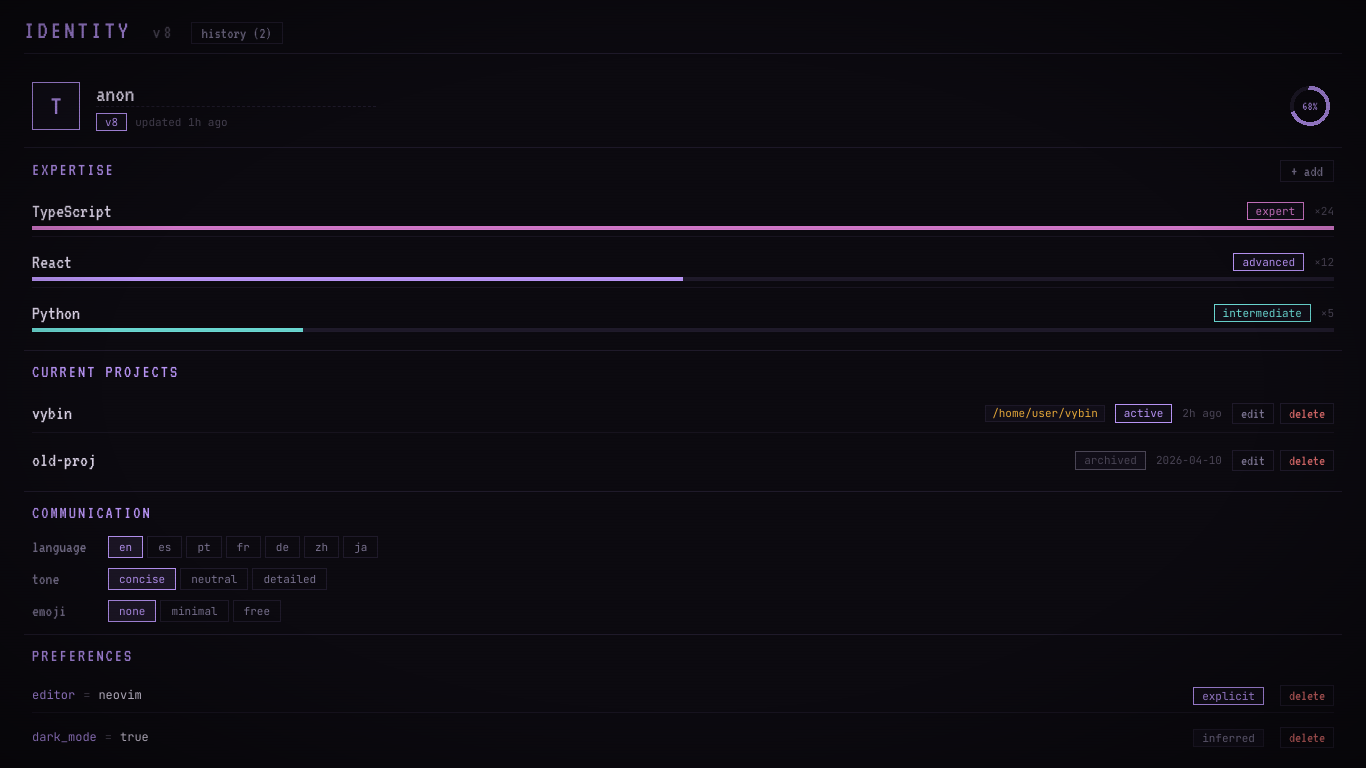
UserModelView — expertise interactions › adds a new expertise area
Click the button "+ add": {"x": 1307, "y": 171} x1=1280 y1=160 x2=1334 y2=182
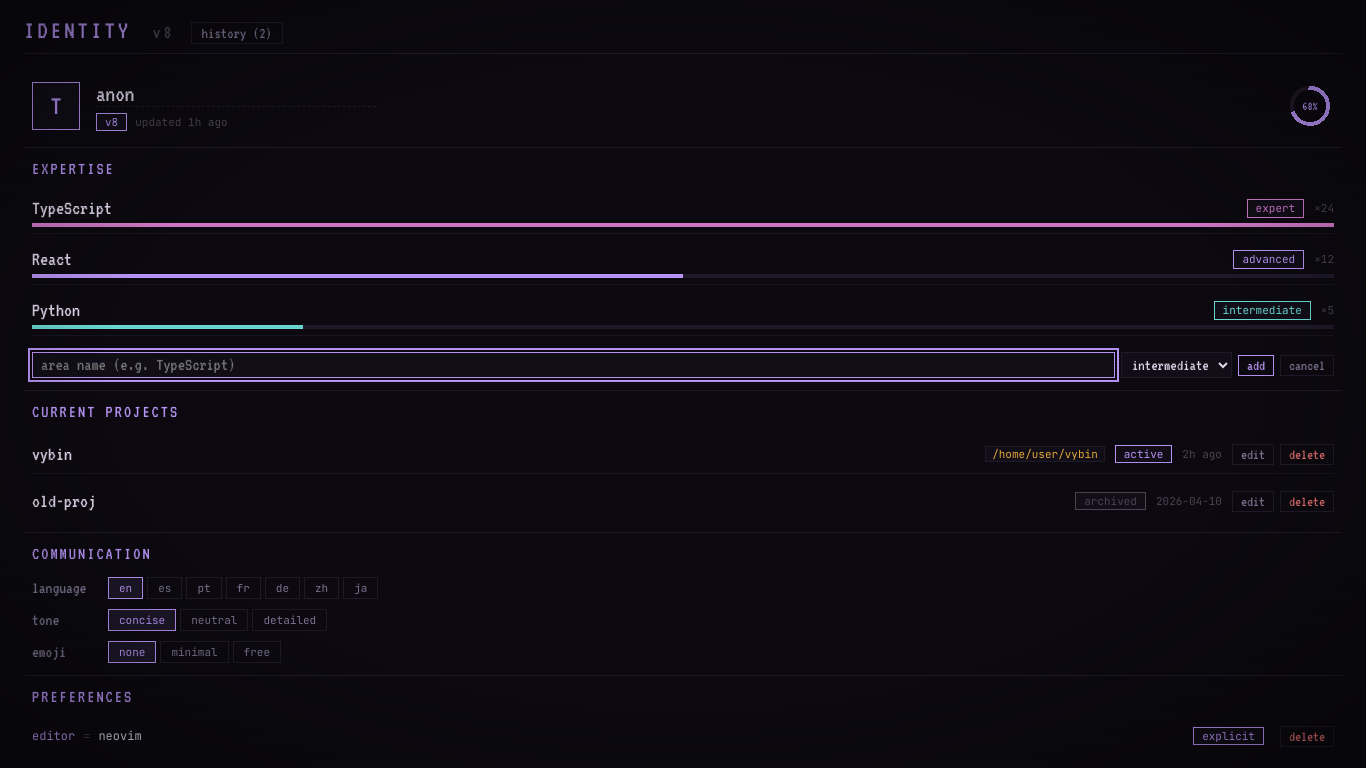
In the field named "new expertise area": {"x": 574, "y": 366} x1=32 y1=352 x2=1115 y2=378, type "Rust"
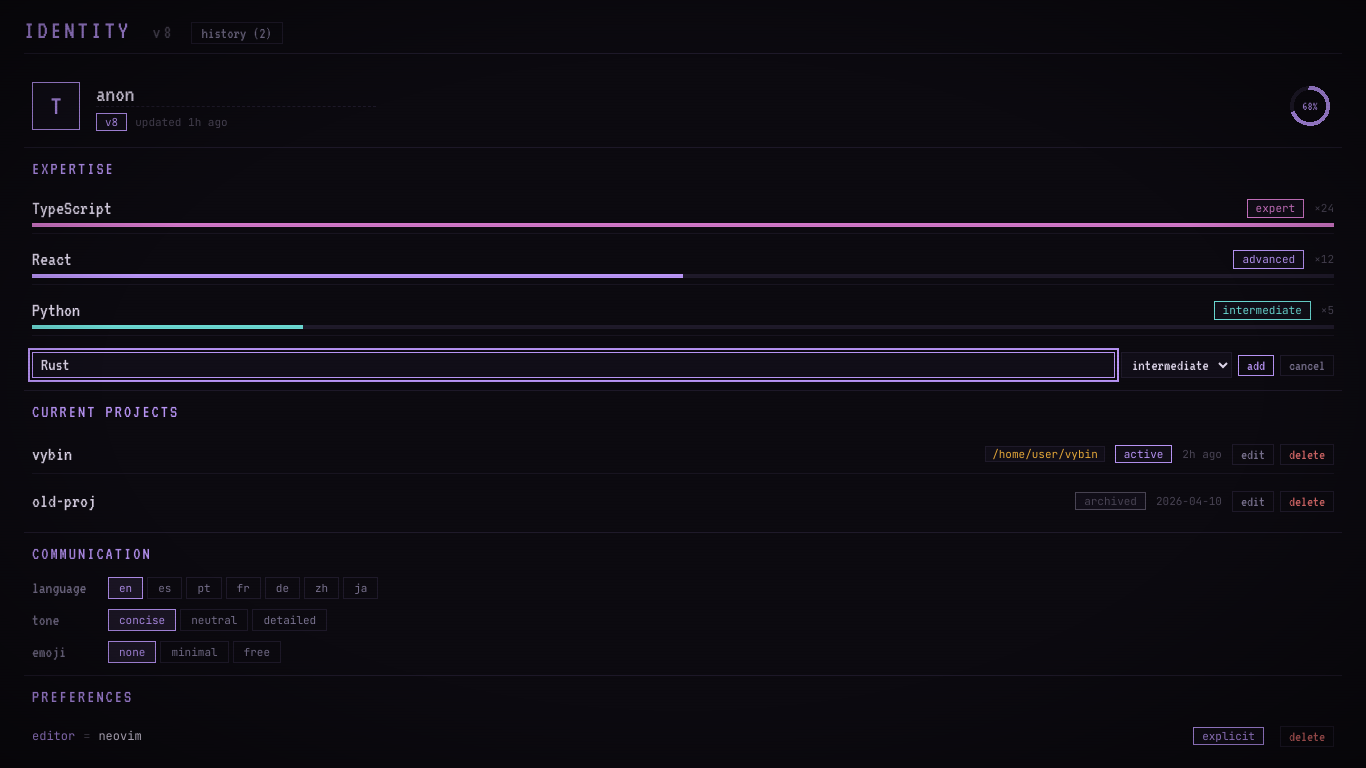
Click the button "add": {"x": 1256, "y": 366} x1=1238 y1=355 x2=1274 y2=376
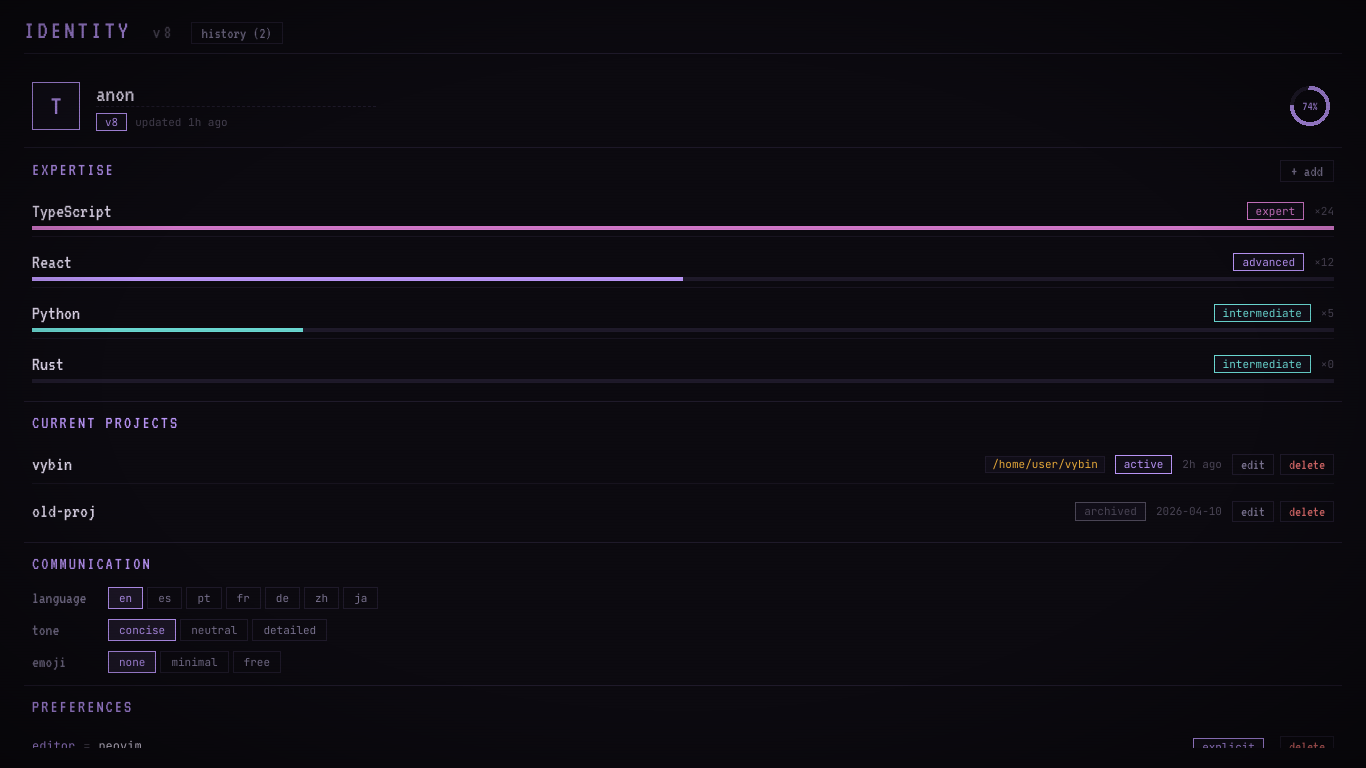
Result: the text "Rust" is shown at x1=32 y1=354 x2=64 y2=374
